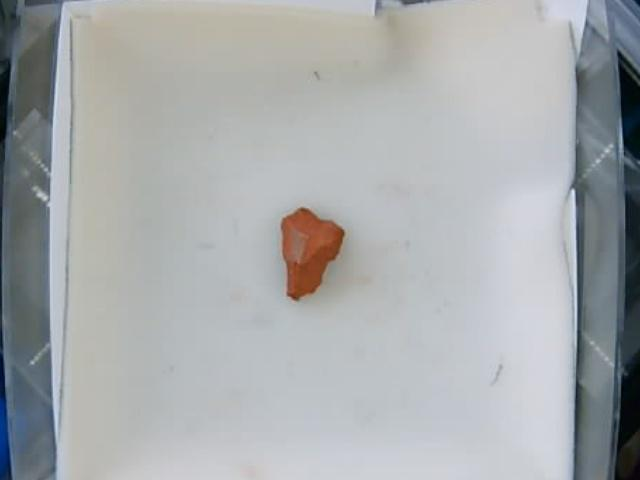Brisk: (281, 206, 349, 301)
